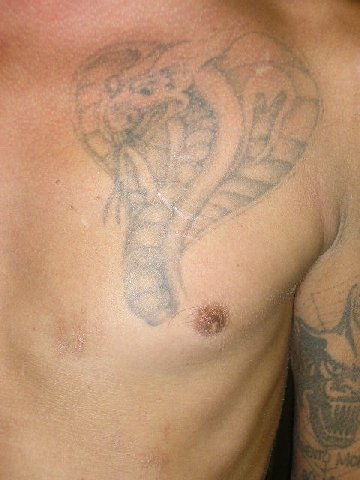tatu7_zmeya: (54, 16, 318, 322)
